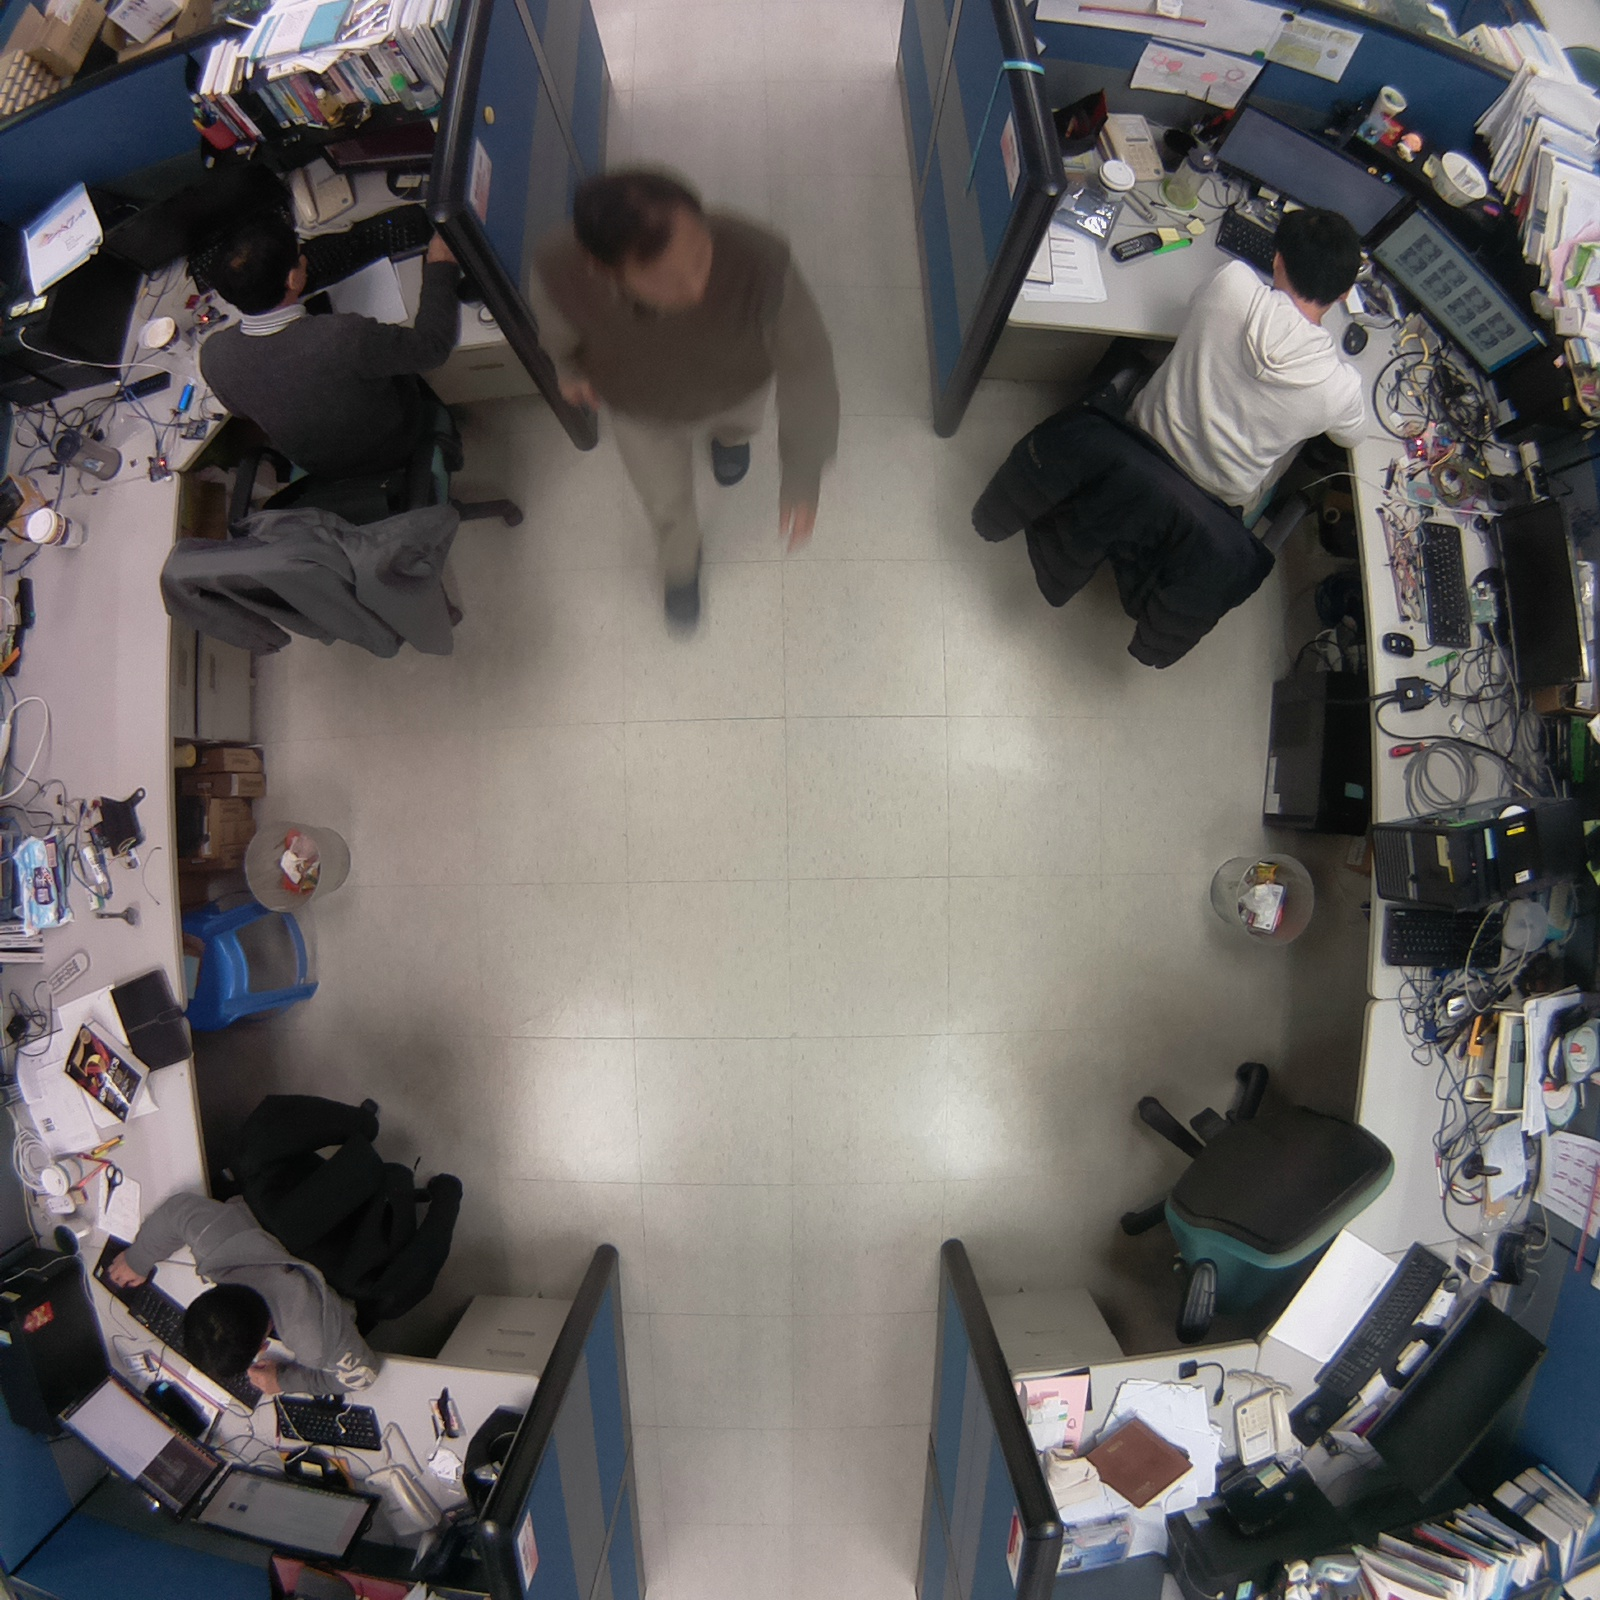chair: (1099, 1045, 1404, 1360)
head: (559, 159, 727, 295), (180, 195, 317, 306), (1259, 197, 1363, 304), (178, 1280, 276, 1389)
sitting: (147, 195, 545, 688), (965, 201, 1367, 681), (150, 1068, 481, 1404)
walking: (510, 163, 850, 641)
